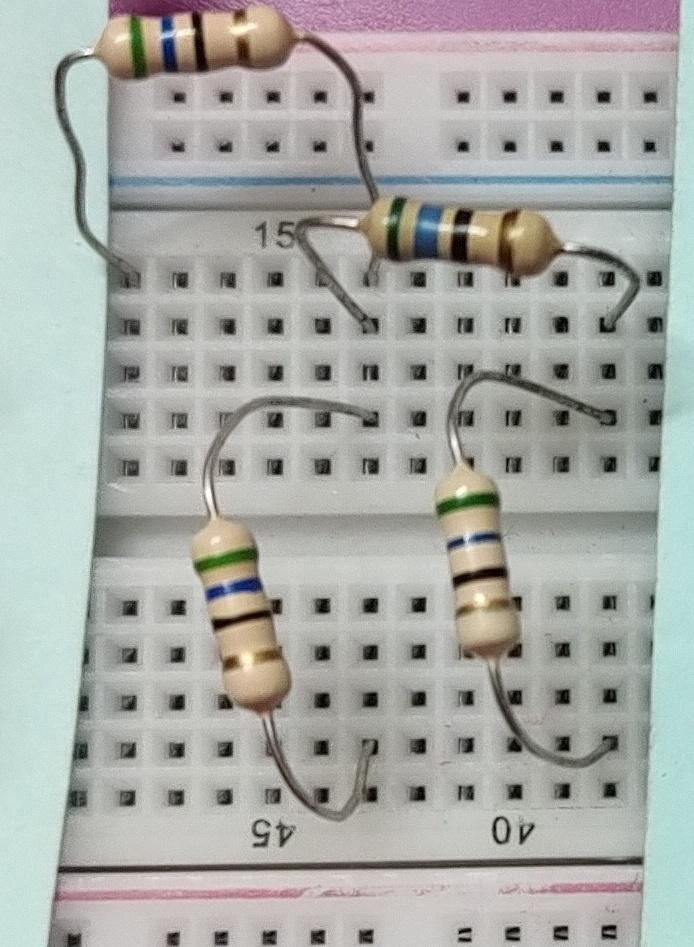resistor: (415, 441, 546, 686), (177, 507, 313, 726), (353, 185, 570, 295), (89, 0, 304, 105)
